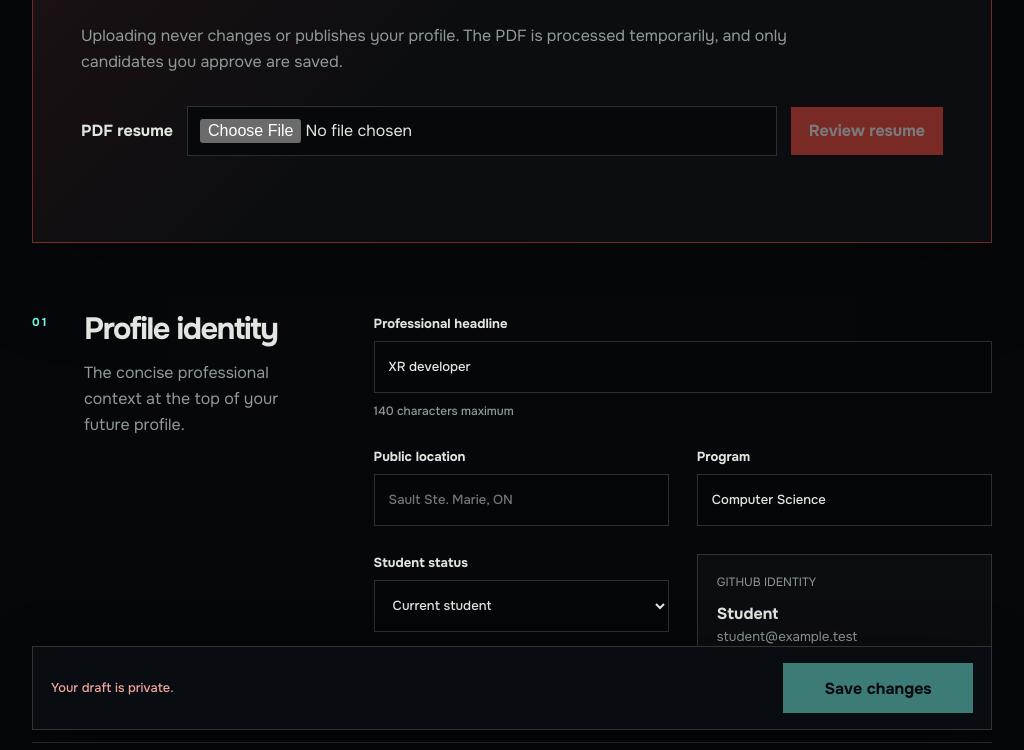
Scenario: private student profile editor › keeps publication explicit, blocks it while dirty, and sends the saved revision
This screenshot has width=1024, height=750.
(page scrolled)
Type " updated" into the field labelled "Professional headline" at (683, 367), box [374, 341, 992, 393]
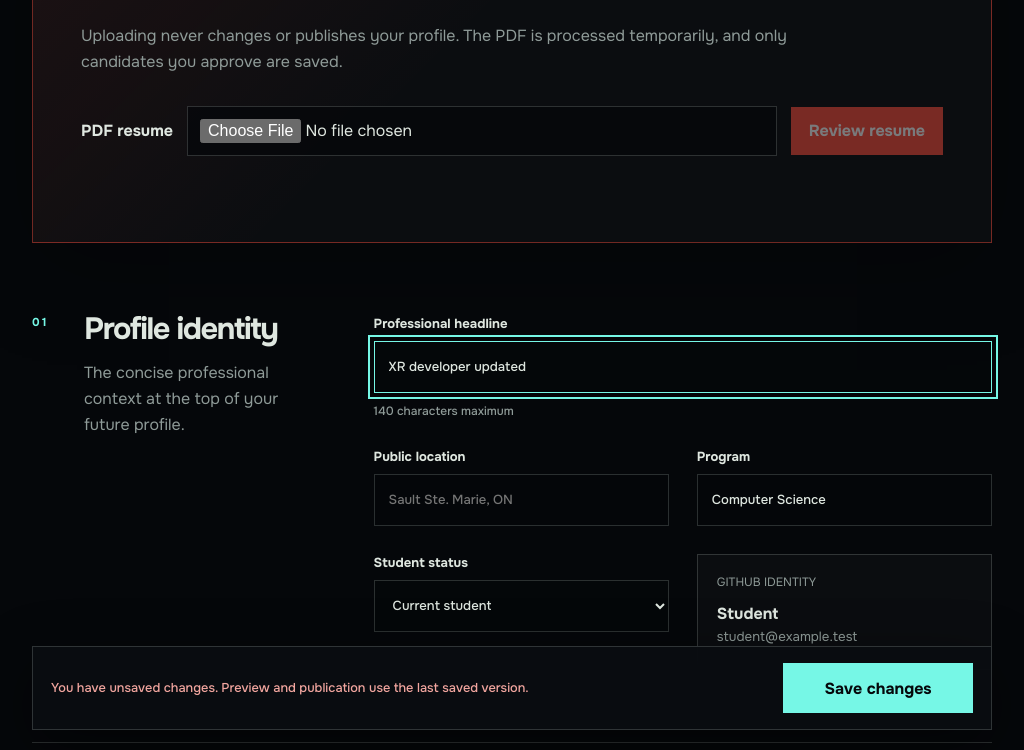
Click the button "Save changes" at (878, 688), box [783, 663, 973, 713]
(page scrolled)
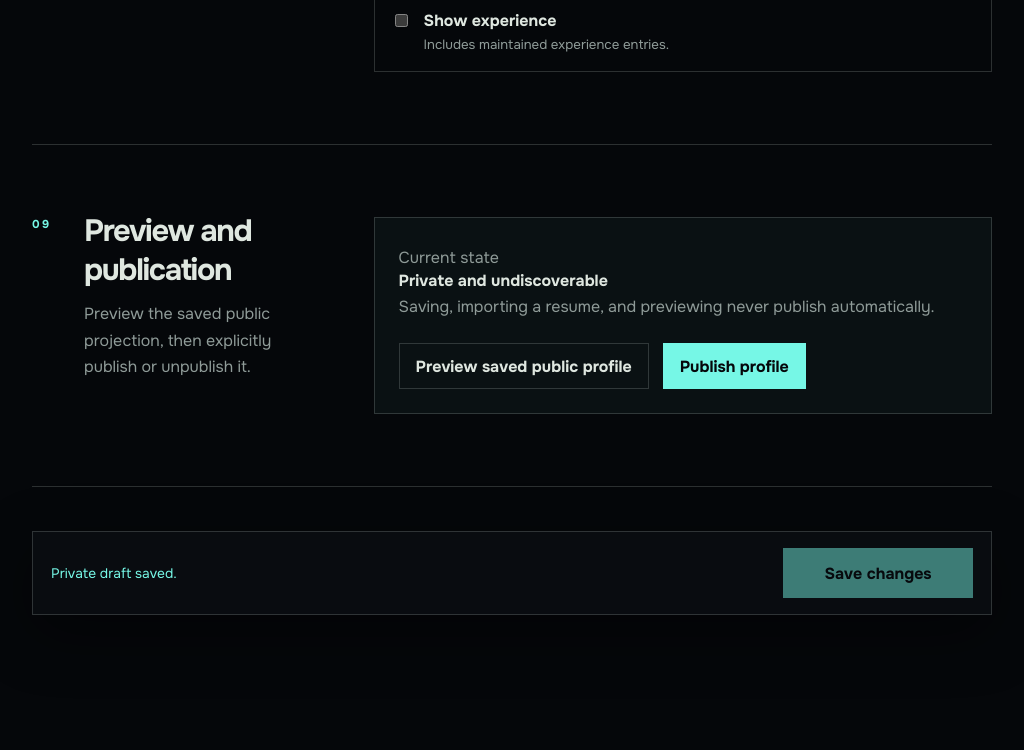
Click the button "Publish profile" at (734, 366), box [663, 343, 806, 389]
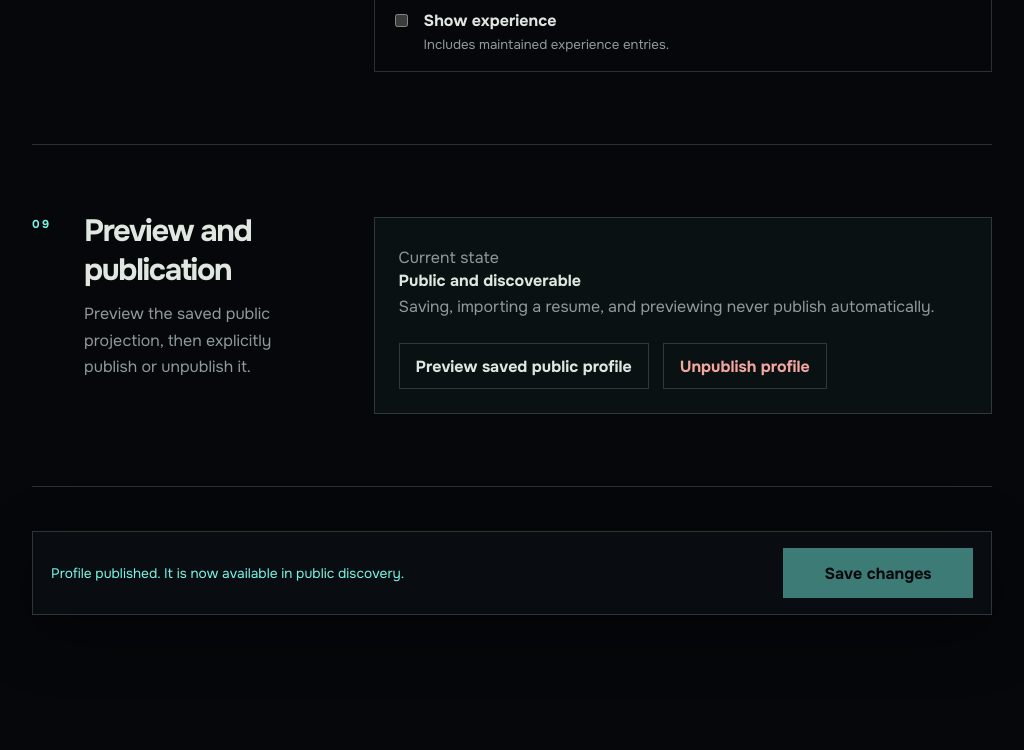
Expected: the button "Unpublish profile" is enabled, [663, 343, 827, 389]
Expected: the text "Profile published. It is now available in public discovery." is shown, [51, 565, 404, 582]
